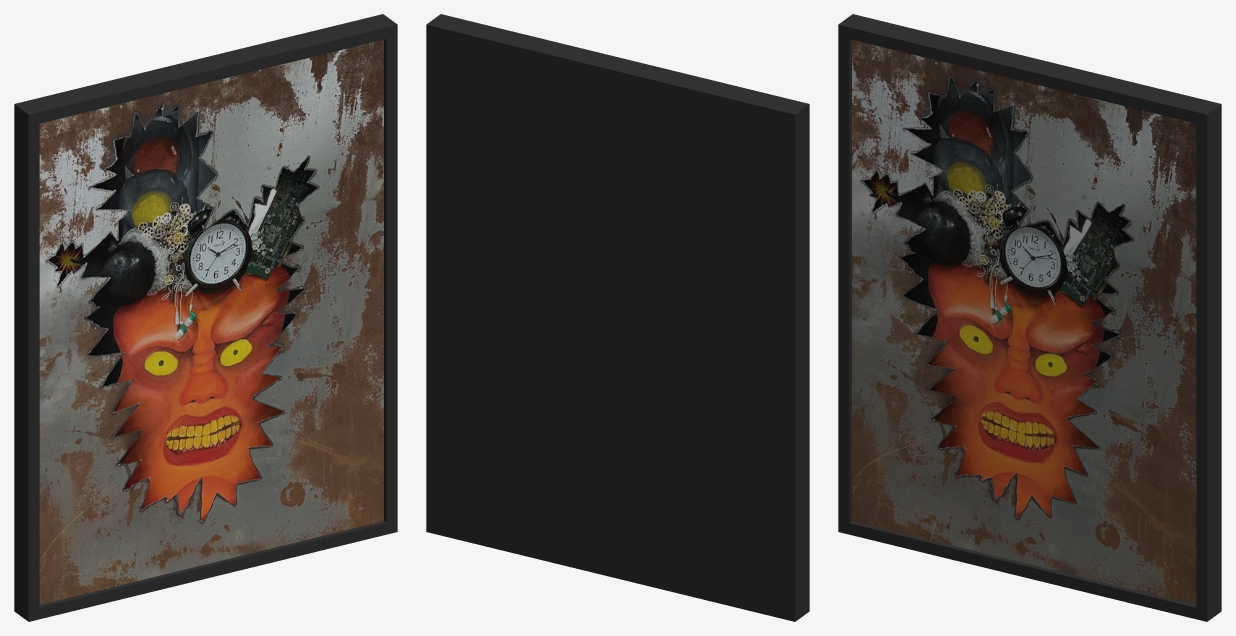
Rendered from ART26_IMG_6988.fbx.
3 renders of one model, left to right at view 1: azimuth 30°, elevation 25°; view 2: azimuth 150°, elevation 25°; view 3: azimuth 330°, elevation 25°, orthographic.
Parts seen in each view (by area): view 1: ART26_IMG_6988; view 2: ART26_IMG_6988; view 3: ART26_IMG_6988.
Part boxes in pixels (box(x1,y1,x2,y2)): ART26_IMG_6988: box(14, 14, 397, 621); ART26_IMG_6988: box(426, 14, 809, 621); ART26_IMG_6988: box(838, 14, 1221, 621).
Size of the model in its own units: 83.75 by 5.75 by 110.
Materials: 2 (1 with a texture image).
